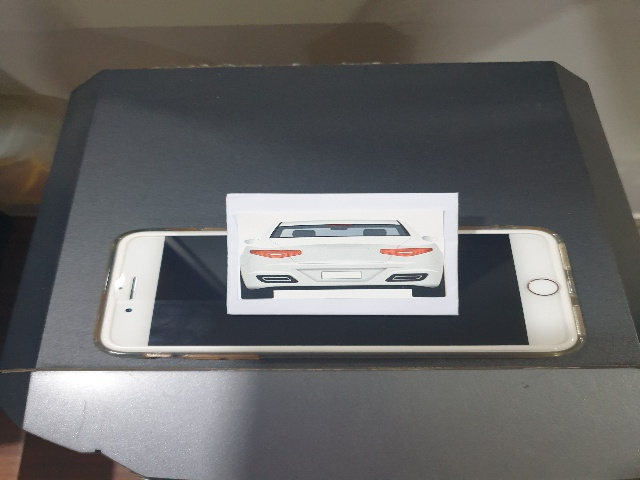Car: (233, 222, 449, 306)
